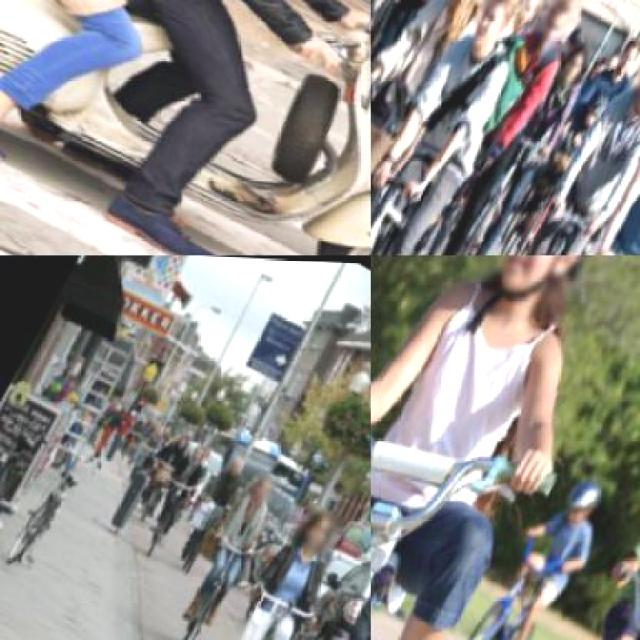With Helmet: (460, 255, 638, 332), (552, 454, 622, 534), (623, 35, 639, 114)
Without Helmet: (462, 0, 532, 54), (525, 0, 586, 60), (292, 496, 350, 558), (554, 32, 598, 88), (434, 0, 511, 28), (604, 24, 638, 84), (246, 463, 285, 505), (224, 443, 253, 479)
